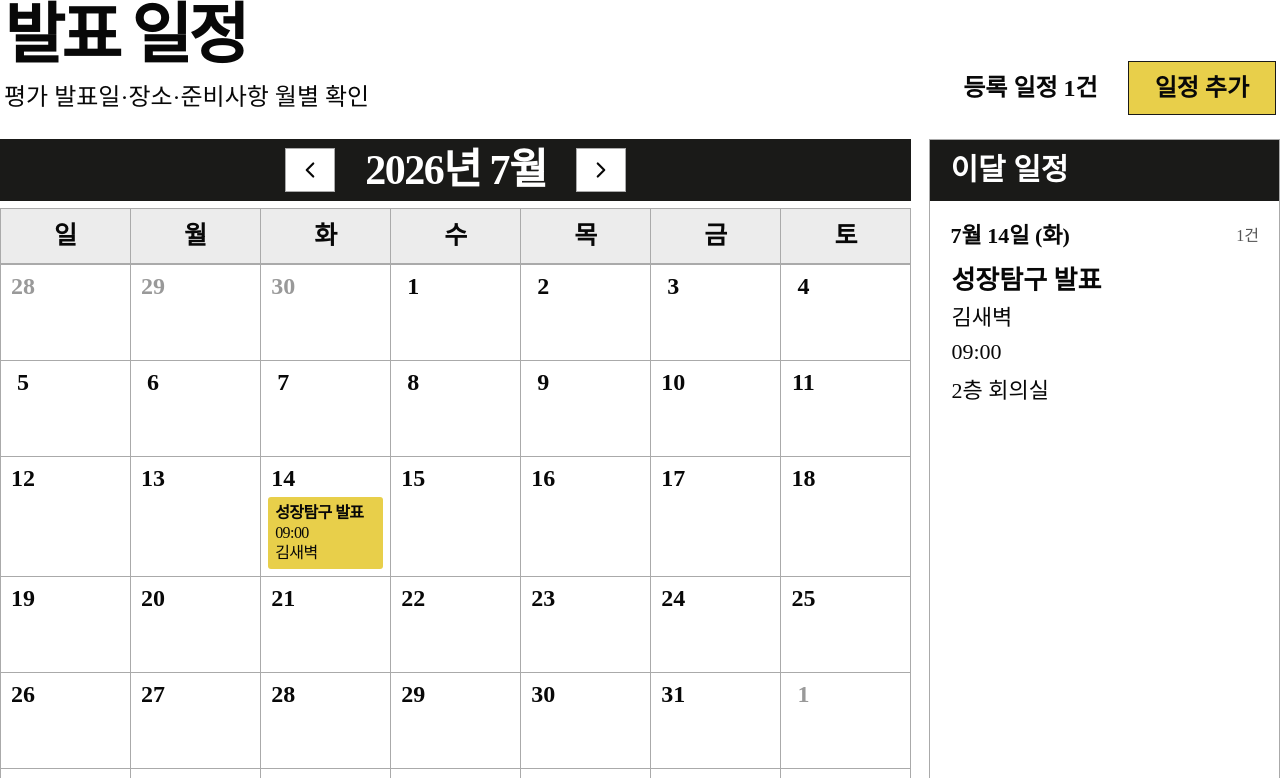
Test: EvaluationCalendar › announces a failed deletion without closing the confirmation
What coordinates should you click on to do the following:
click the button "성장탐구 발표 09:00 김새벽"
I would click on:
 (326, 532)
Its box is [268,496,383,568].
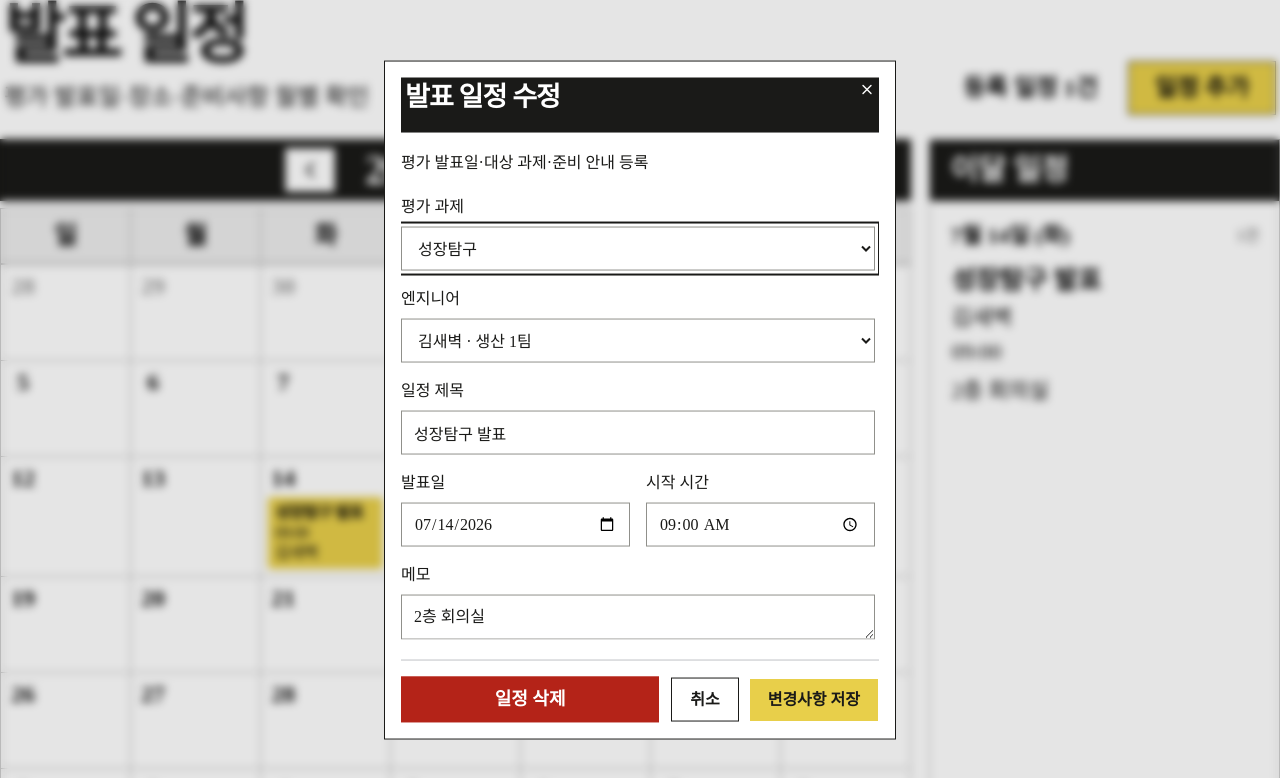
What coordinates should you click on to do the following:
click the button "일정 삭제"
I would click on:
 (530, 700)
Its box is [401,676,659,722].
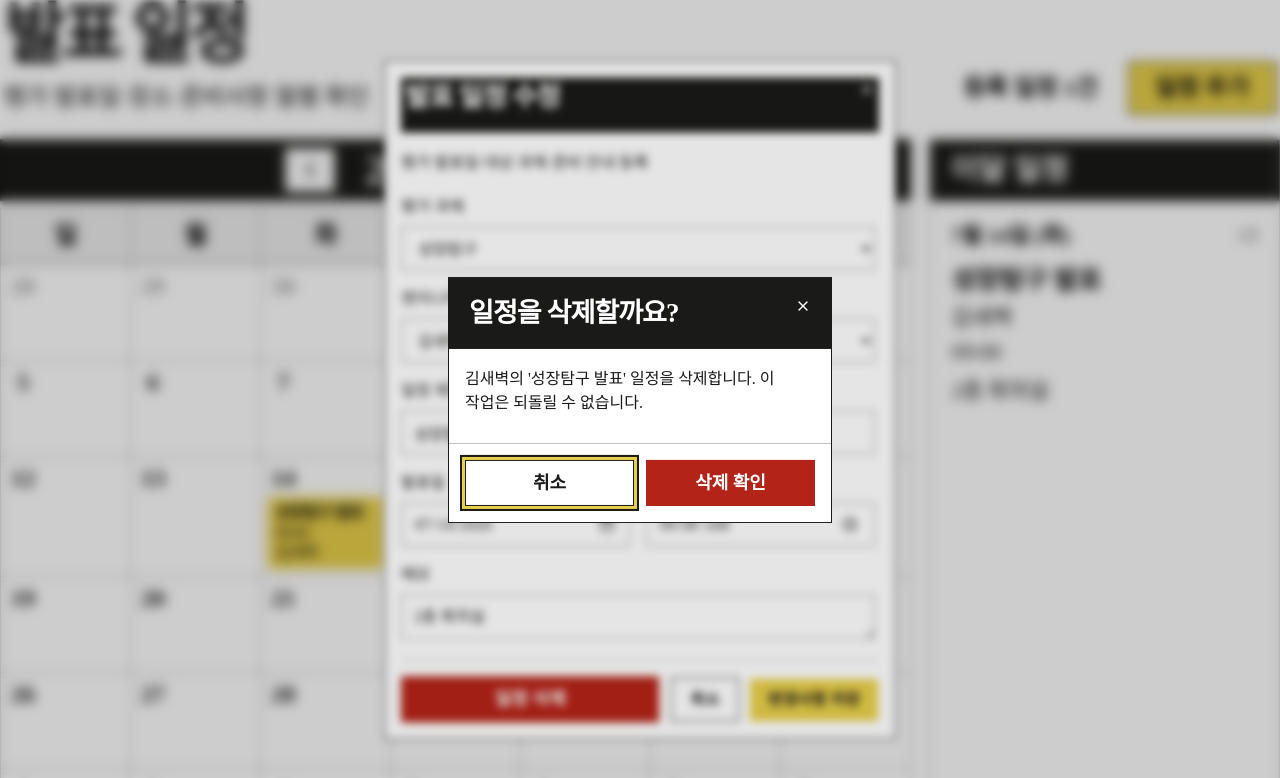
What coordinates should you click on to do the following:
click the button "삭제 확인"
I would click on:
 (730, 483)
Its box is [646,460,815,506].
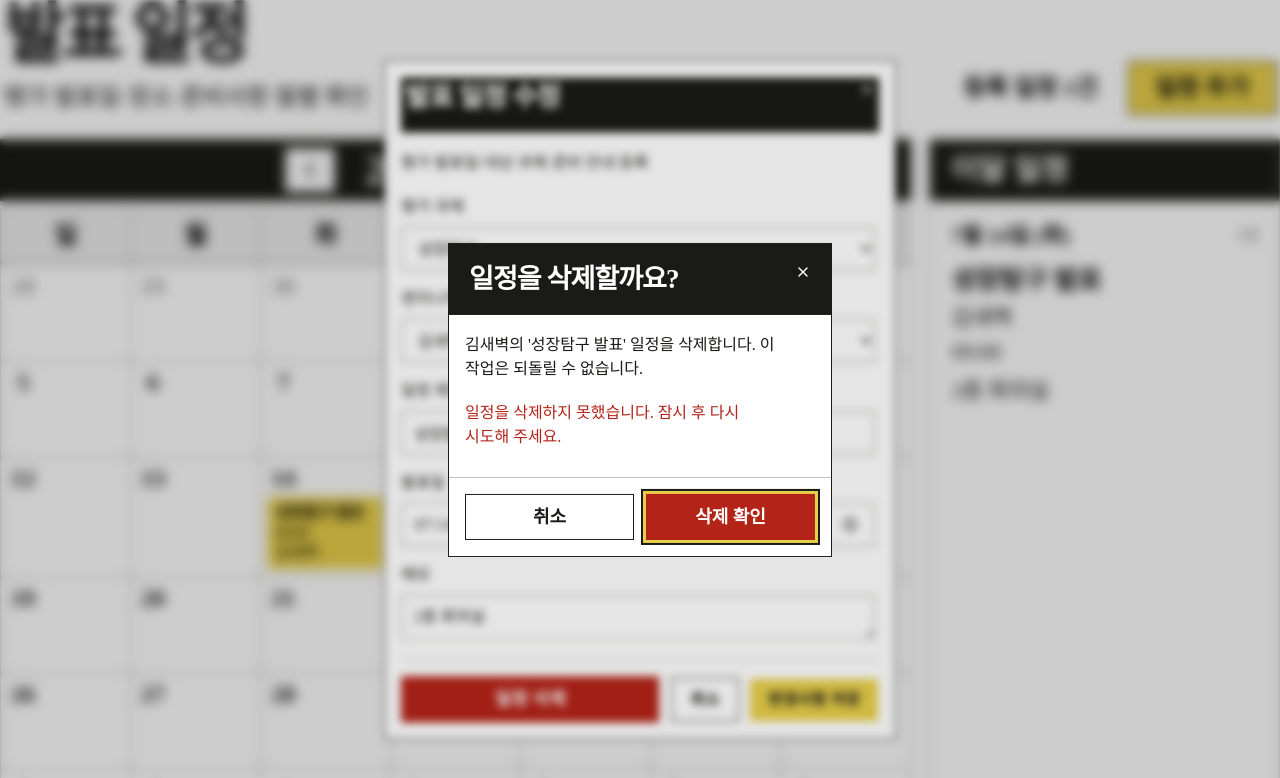
Now the dialog that starts with "일정을 삭제할까요?" is shown, box [448,243,832,557]
Now the message shows "일정을 삭제하지 못했습니다", box [465,404,739,445]
